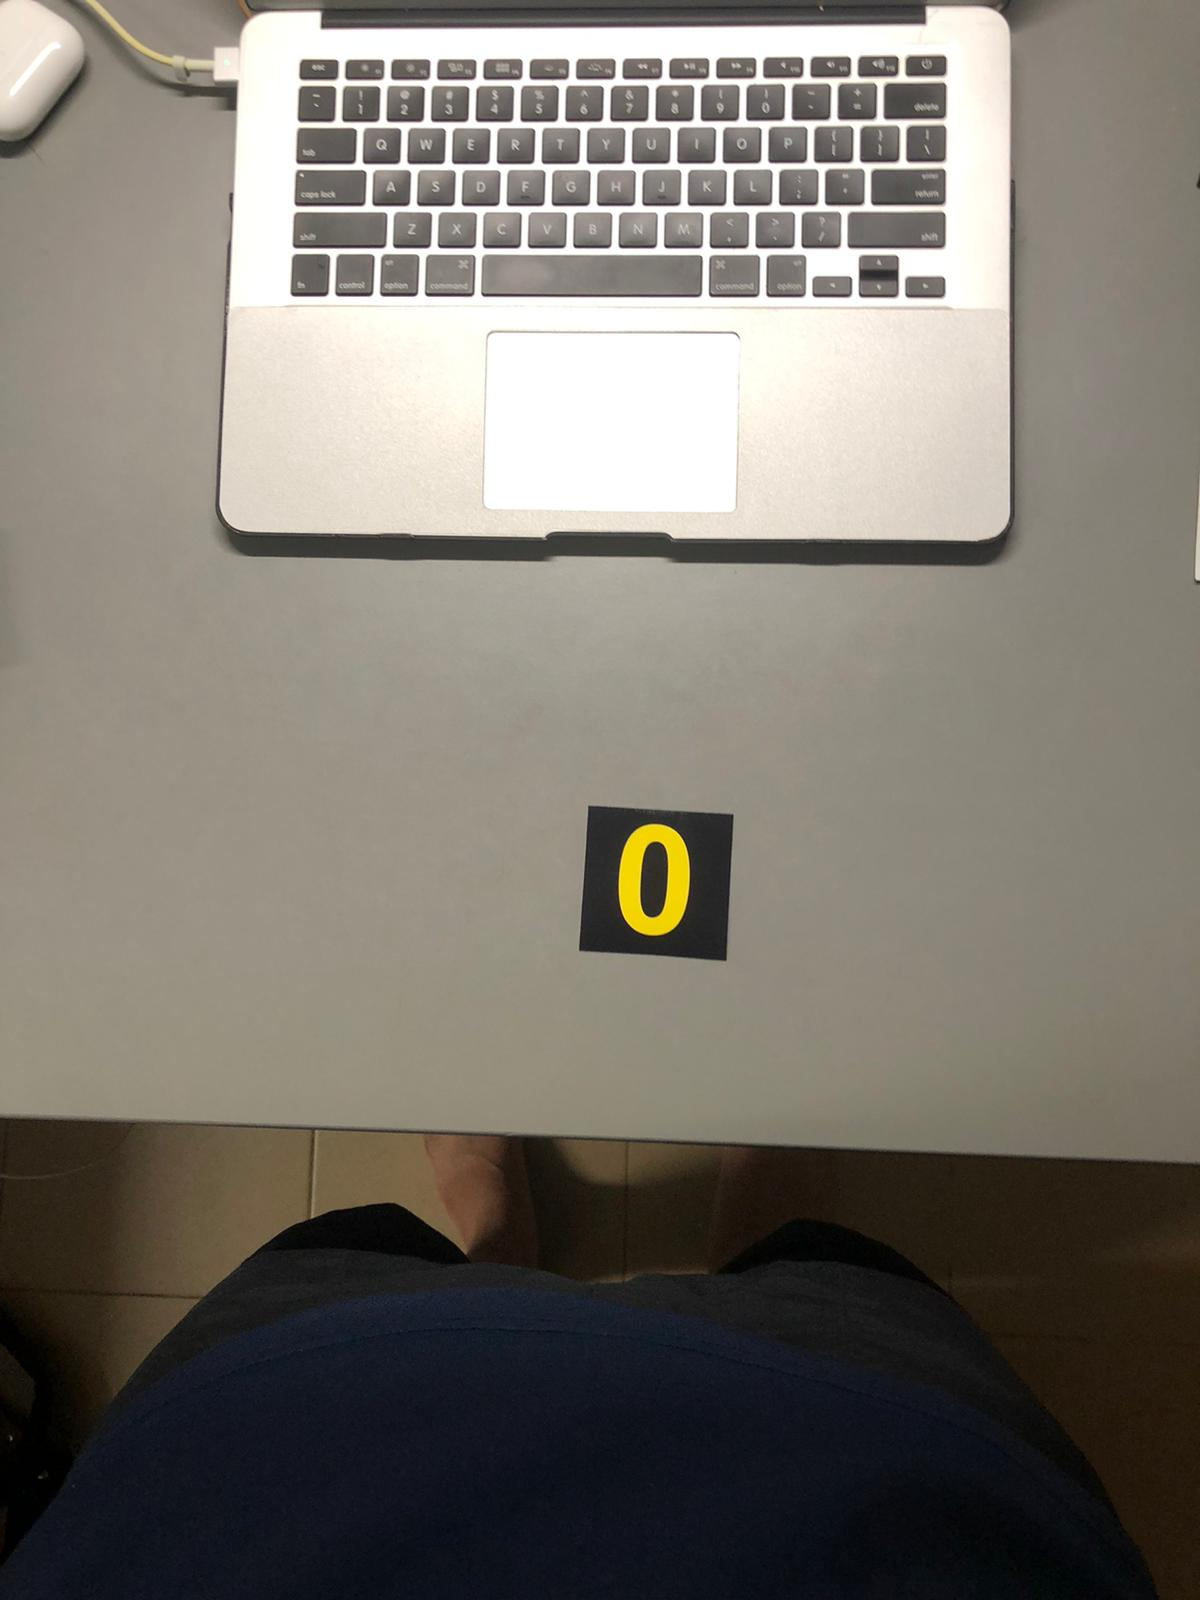Number 0: (587, 813, 722, 960)
